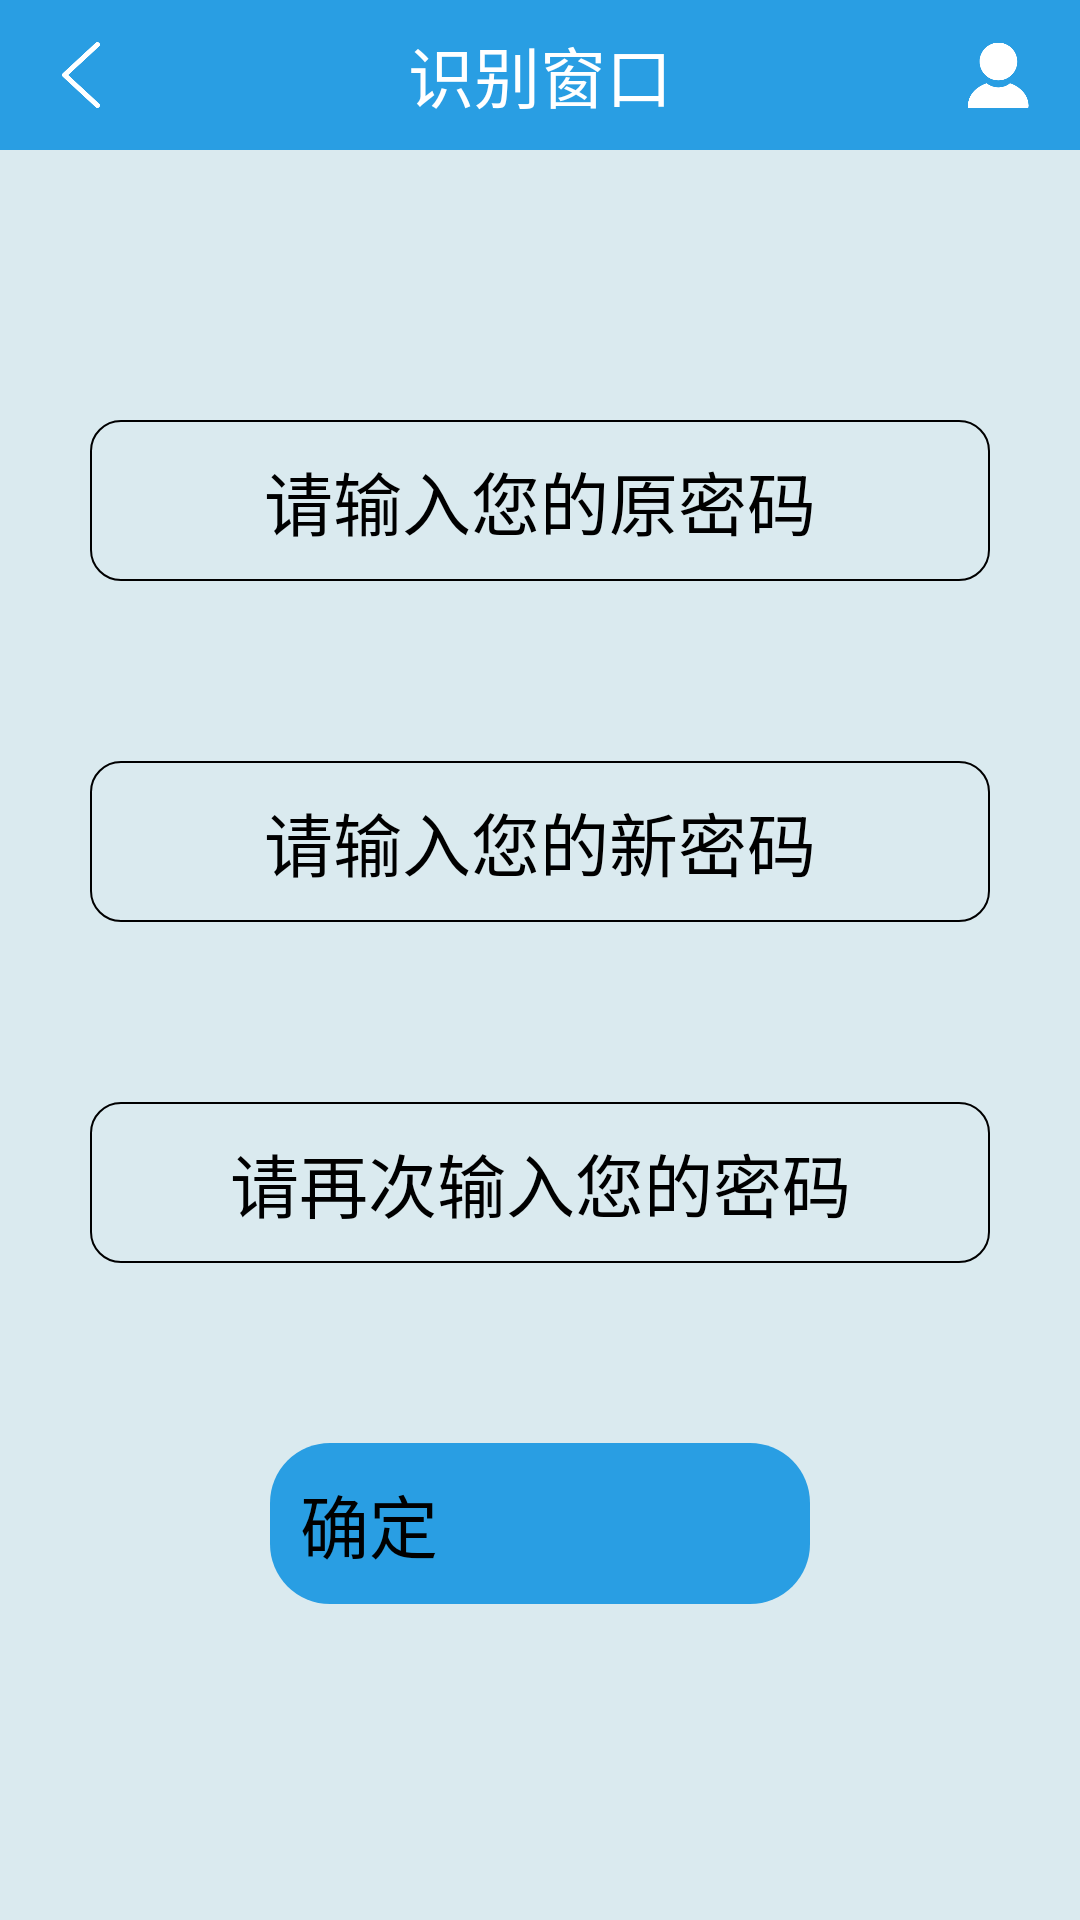

Icon bounding boxes for this 1080*1920 phone screenshot, format [left=x1, top=y1, right=x2, bottom=y2]:
back: [left=62, top=42, right=100, bottom=108]
login: [left=968, top=43, right=1029, bottom=108]
